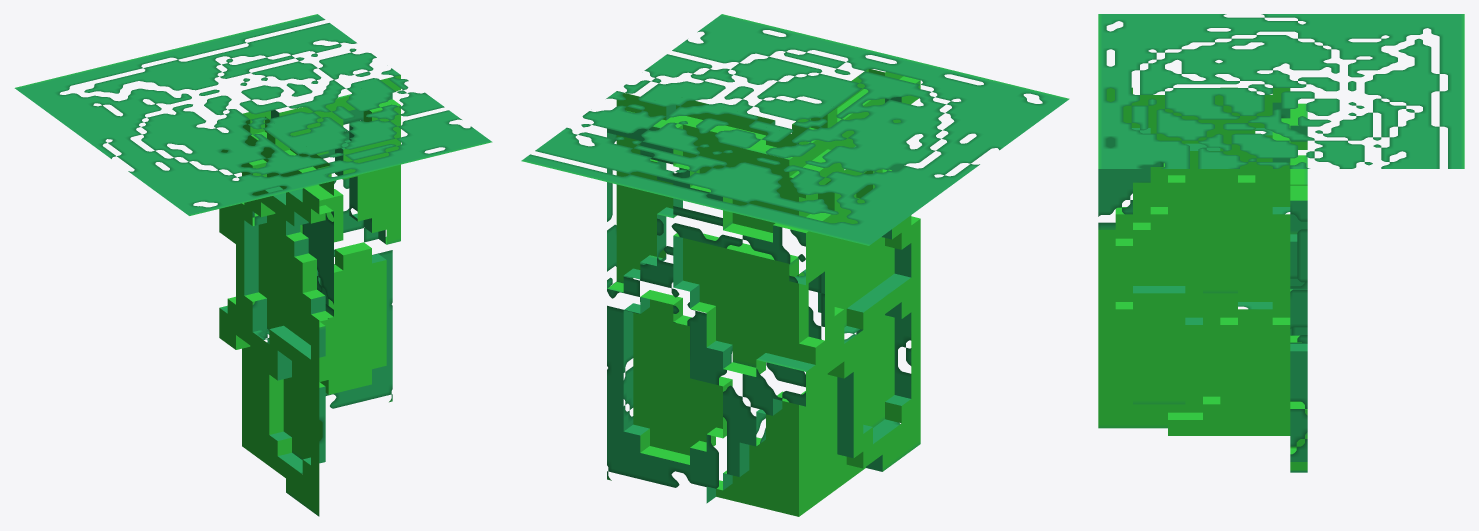
The model's file is Cliff_InnerCorner.obj.
The picture shows the model from 3 angles, left to right: view 1: azimuth 30°, elevation 25°; view 2: azimuth 150°, elevation 25°; view 3: azimuth 270°, elevation 25°; orthographic projection. The views are drawn at different scales.
Parts seen in each view (by area): view 1: Cube.1499; view 2: Cube.1499; view 3: Cube.1499.
Boxes of the visible parts, x1,y1,x2,y2 form: Cube.1499: (14, 14, 492, 516); Cube.1499: (521, 14, 1069, 516); Cube.1499: (1098, 14, 1464, 472).
Size of the model in its own units: 2.1 by 2.2 by 2.1.
